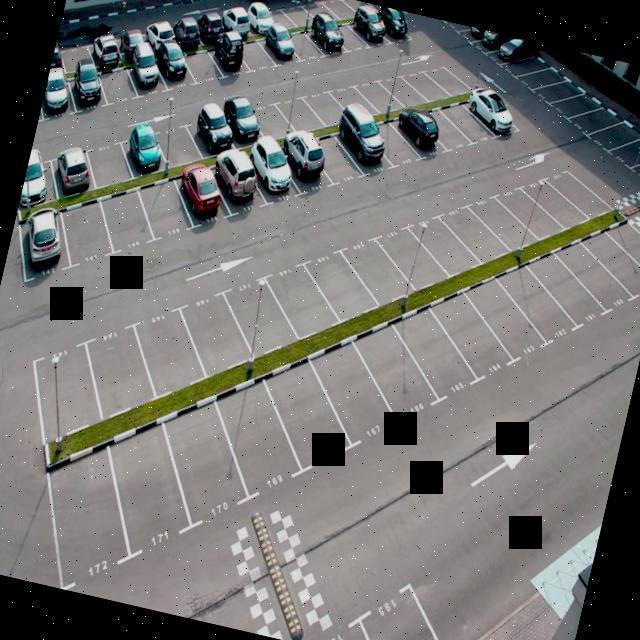space-empty: (190, 368, 318, 503), (240, 348, 375, 475), (145, 392, 268, 531), (22, 439, 144, 575), (290, 328, 419, 452), (94, 418, 200, 568), (366, 300, 493, 409), (335, 320, 451, 431), (407, 285, 526, 385), (444, 272, 560, 367), (500, 243, 614, 336), (469, 259, 588, 348), (170, 280, 259, 395), (211, 262, 305, 368), (17, 336, 110, 443), (295, 237, 386, 333), (132, 292, 215, 397), (534, 238, 636, 320), (85, 313, 160, 421), (255, 256, 344, 347), (360, 212, 454, 297), (329, 227, 414, 313), (558, 223, 640, 308), (396, 210, 486, 286), (427, 197, 515, 274), (457, 189, 545, 258), (488, 177, 571, 245), (540, 157, 616, 225), (49, 197, 116, 274), (510, 175, 589, 238), (91, 187, 159, 259), (130, 186, 198, 251), (308, 130, 369, 197), (77, 136, 137, 202), (361, 115, 425, 175), (271, 79, 328, 143), (345, 71, 411, 126), (155, 108, 205, 176), (245, 87, 301, 146), (302, 74, 358, 130), (595, 216, 640, 285), (369, 67, 427, 120), (495, 35, 552, 88), (416, 102, 473, 153), (528, 66, 585, 116), (324, 76, 379, 126), (547, 81, 605, 128), (438, 104, 497, 148), (585, 114, 639, 162), (564, 94, 618, 142), (519, 51, 568, 102), (398, 64, 448, 109), (418, 58, 468, 103), (96, 63, 140, 113), (274, 23, 328, 61), (232, 32, 279, 72), (327, 18, 375, 55), (607, 129, 640, 181), (59, 36, 96, 80), (179, 45, 223, 81), (259, 0, 296, 32), (281, 0, 318, 29), (300, 0, 337, 25), (319, 0, 357, 22), (629, 143, 640, 199), (336, 0, 374, 15), (446, 21, 482, 35)
space-occupied: (6, 201, 77, 292), (164, 165, 232, 234), (184, 97, 243, 172), (265, 134, 334, 197), (327, 116, 396, 178), (205, 159, 272, 222), (41, 134, 102, 203), (239, 137, 299, 203), (119, 118, 172, 185), (215, 94, 271, 156), (387, 105, 451, 159), (466, 85, 515, 141), (18, 150, 60, 212), (63, 62, 110, 116), (483, 31, 543, 72), (298, 20, 351, 61), (150, 45, 199, 89), (256, 24, 306, 66), (368, 5, 416, 44), (114, 18, 152, 66), (209, 37, 251, 78), (349, 11, 391, 52), (168, 13, 207, 55), (194, 0, 229, 45), (91, 27, 124, 74), (129, 56, 169, 94), (40, 78, 75, 119), (143, 12, 178, 53), (469, 27, 518, 56), (240, 0, 277, 37), (220, 2, 254, 41), (456, 24, 503, 44), (47, 43, 68, 85)
